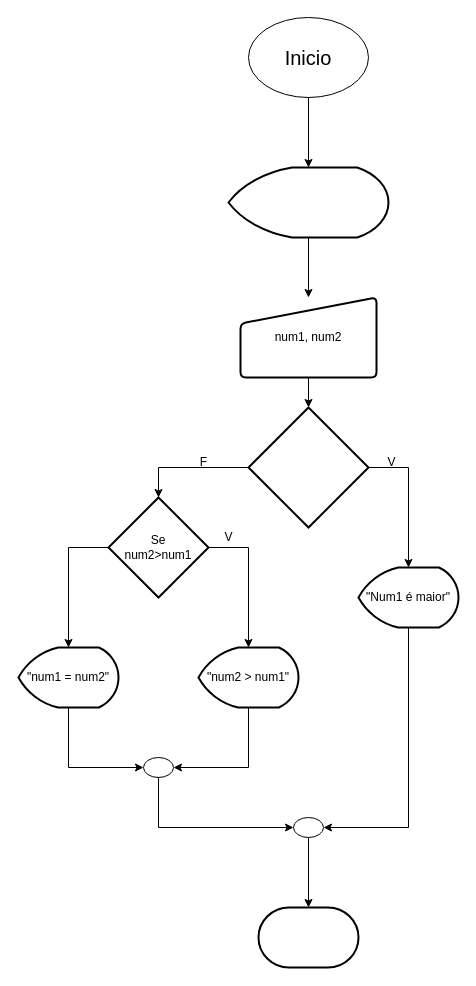
This 476x986 diagram has some shape labels left out. Each missing label, with the box of its shape:
"Informe dois numeros": (227, 166, 389, 238)
Fim: (257, 906, 359, 968)
Se num1 > num2: (247, 406, 369, 528)
